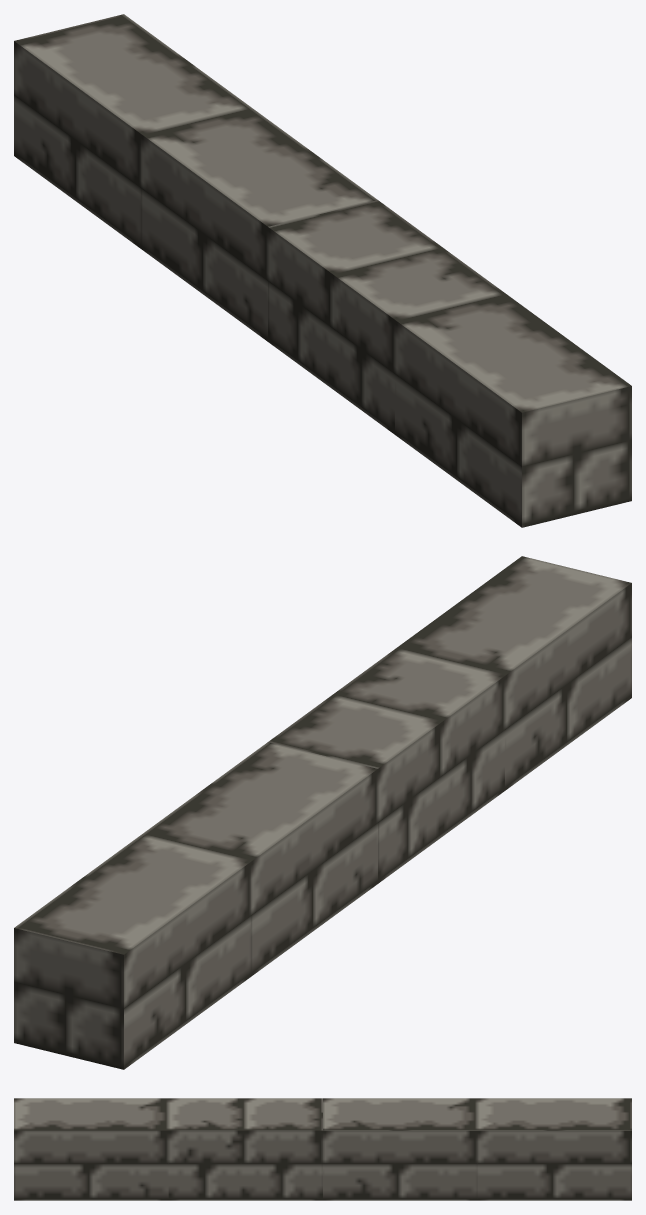
File: Trim_Piece_1M_x4.fbx
The picture shows the model from 3 angles, top to bottom: view 1: azimuth 30°, elevation 25°; view 2: azimuth 150°, elevation 25°; view 3: azimuth 270°, elevation 25°; orthographic projection. The views are drawn at different scales.
Visible parts, largest first — view 1: Wall_Piece_1M_x4; view 2: Wall_Piece_1M_x4; view 3: Wall_Piece_1M_x4.
Part boxes in pixels (x1,y1,x2,y2): Wall_Piece_1M_x4: [14, 14, 631, 527]; Wall_Piece_1M_x4: [14, 556, 631, 1069]; Wall_Piece_1M_x4: [14, 1098, 631, 1200].
Size of the model in its own units: 100 by 100 by 800.
1 material, 1 textured.
